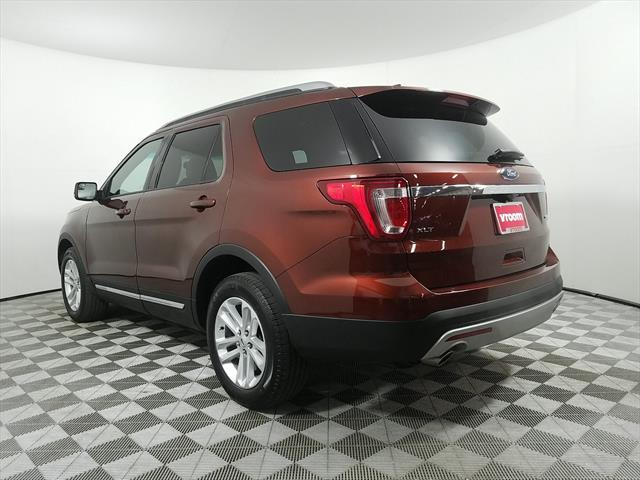Ford Explorer: (53, 77, 567, 413)
